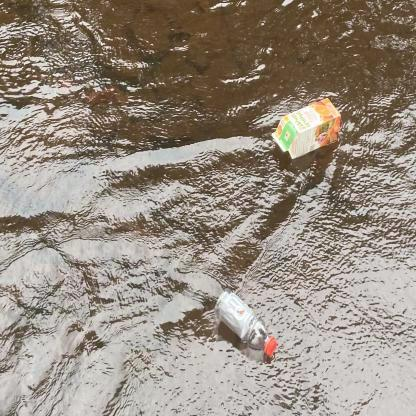Plastic: (209, 285, 283, 362)
